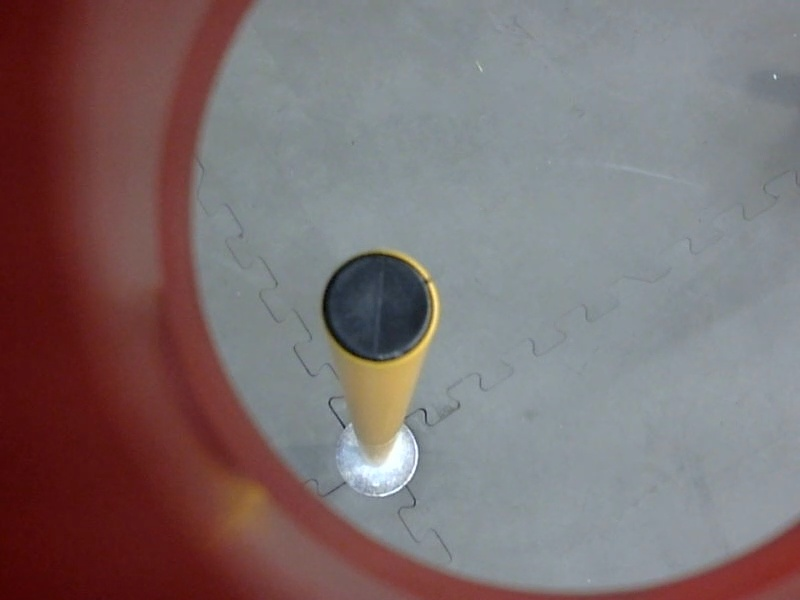tip: (318, 245, 445, 372)
